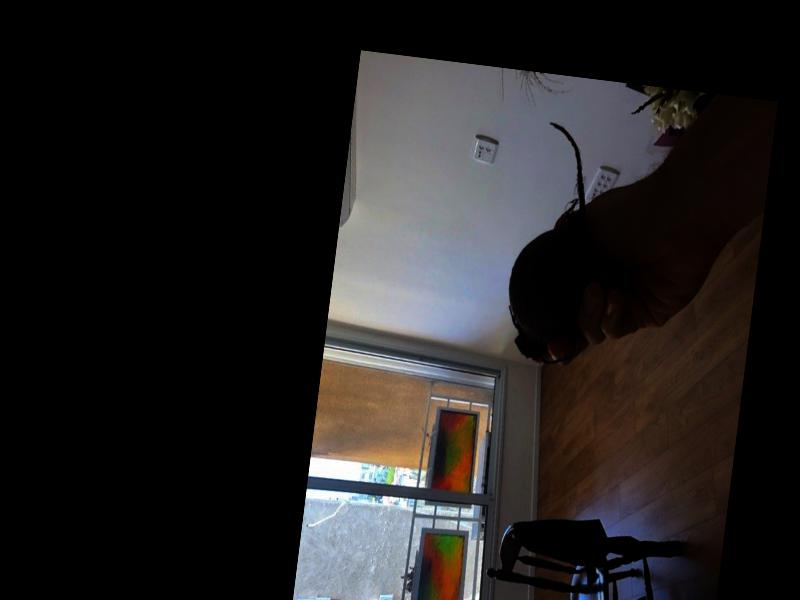Beet: (500, 121, 608, 369)
